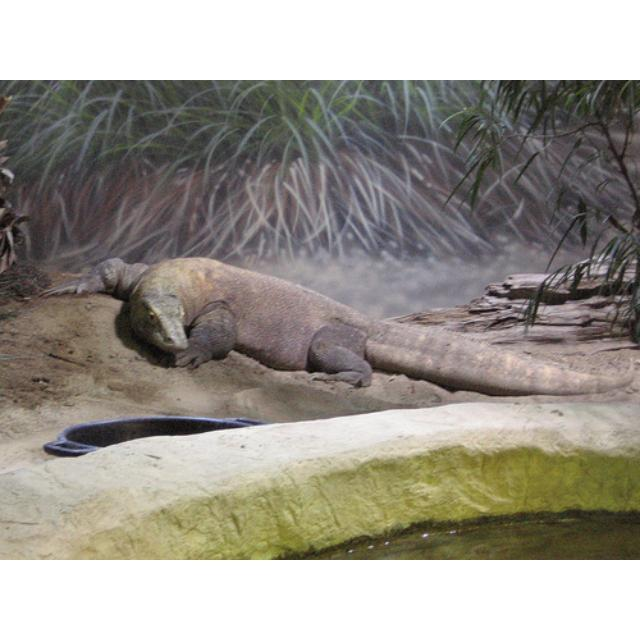KomodoDragon: (38, 255, 635, 394)
